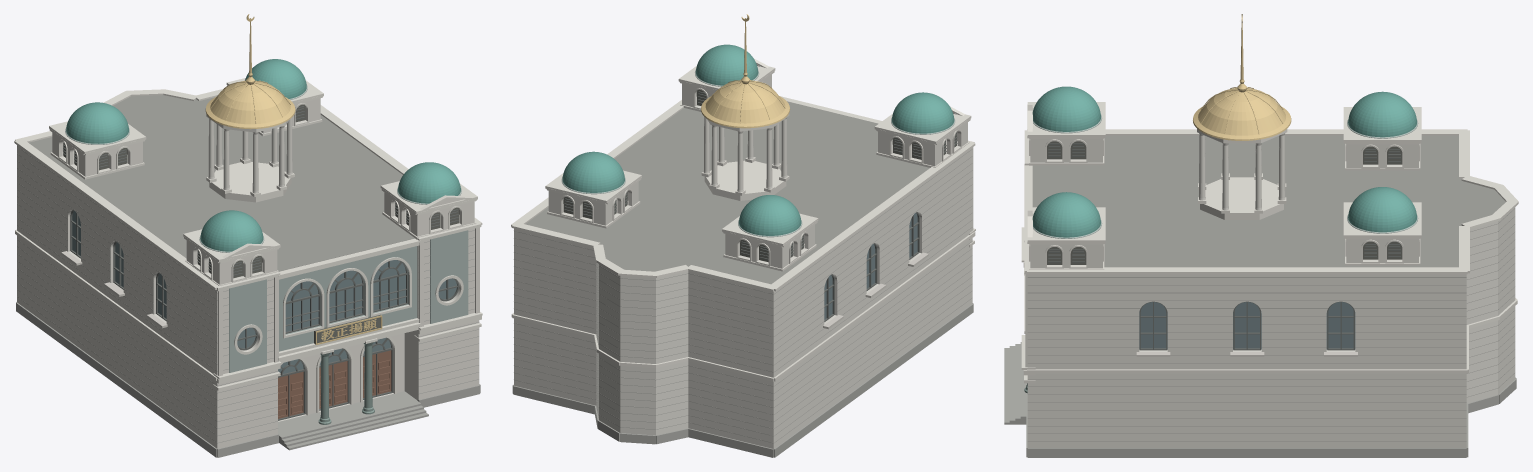
File: huangpu-xiaotaoyuan-mosque-prayer-hall-raw.glb
The picture shows the model from 3 angles, left to right: view 1: azimuth 30°, elevation 25°; view 2: azimuth 150°, elevation 25°; view 3: azimuth 270°, elevation 25°; orthographic projection. The views are drawn at different scales.
Parts seen in each view (by area): view 1: 小桃园清真寺主礼拜殿（院内东立面及五处屋顶构件）; view 2: 小桃园清真寺主礼拜殿（院内东立面及五处屋顶构件）; view 3: 小桃园清真寺主礼拜殿（院内东立面及五处屋顶构件）.
Boxes of the visible parts, x1,y1,x2,y2 form: 小桃园清真寺主礼拜殿（院内东立面及五处屋顶构件）: (14, 14, 482, 457); 小桃园清真寺主礼拜殿（院内东立面及五处屋顶构件）: (511, 14, 975, 457); 小桃园清真寺主礼拜殿（院内东立面及五处屋顶构件）: (1004, 14, 1518, 457).
Bounding box in the file's own units: 19.6 × 23.32 × 29.18.
